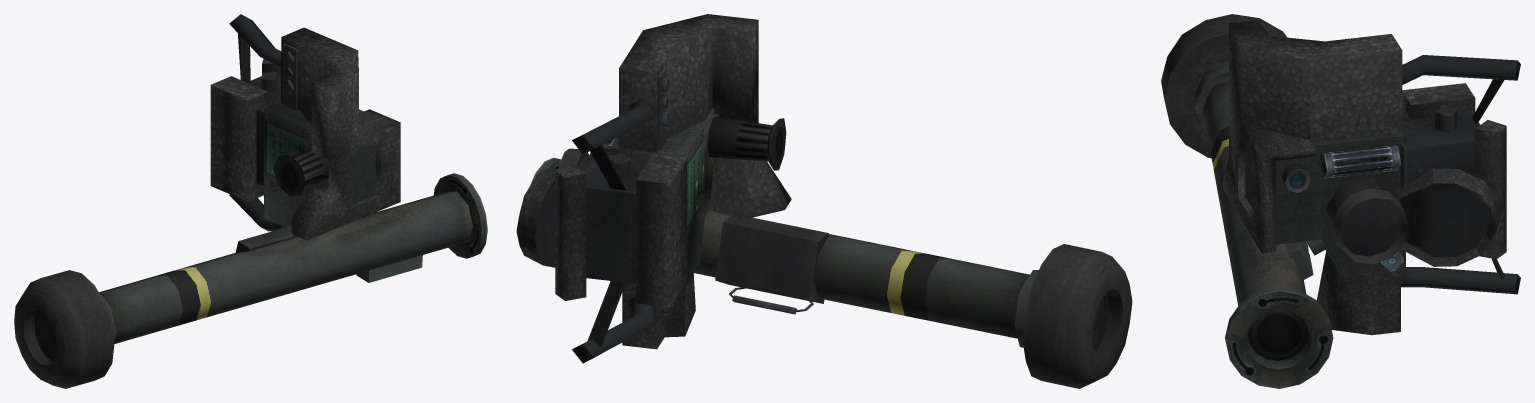
File: weapon_javelin_LOD0.obj
The picture shows the model from 3 angles, left to right: view 1: azimuth 30°, elevation 25°; view 2: azimuth 150°, elevation 25°; view 3: azimuth 270°, elevation 25°; orthographic projection. The views are drawn at different scales.
Parts seen in each view (by area): view 1: mtl_weapon_javelin; view 2: mtl_weapon_javelin; view 3: mtl_weapon_javelin.
Boxes of the visible parts, box(x1,y1,x2,y2) form: mtl_weapon_javelin: box(14, 14, 487, 388); mtl_weapon_javelin: box(516, 14, 1132, 388); mtl_weapon_javelin: box(1161, 14, 1520, 388).
Bounding box in the file's own units: 106 × 51.94 × 58.94.
1 material, 1 textured.
